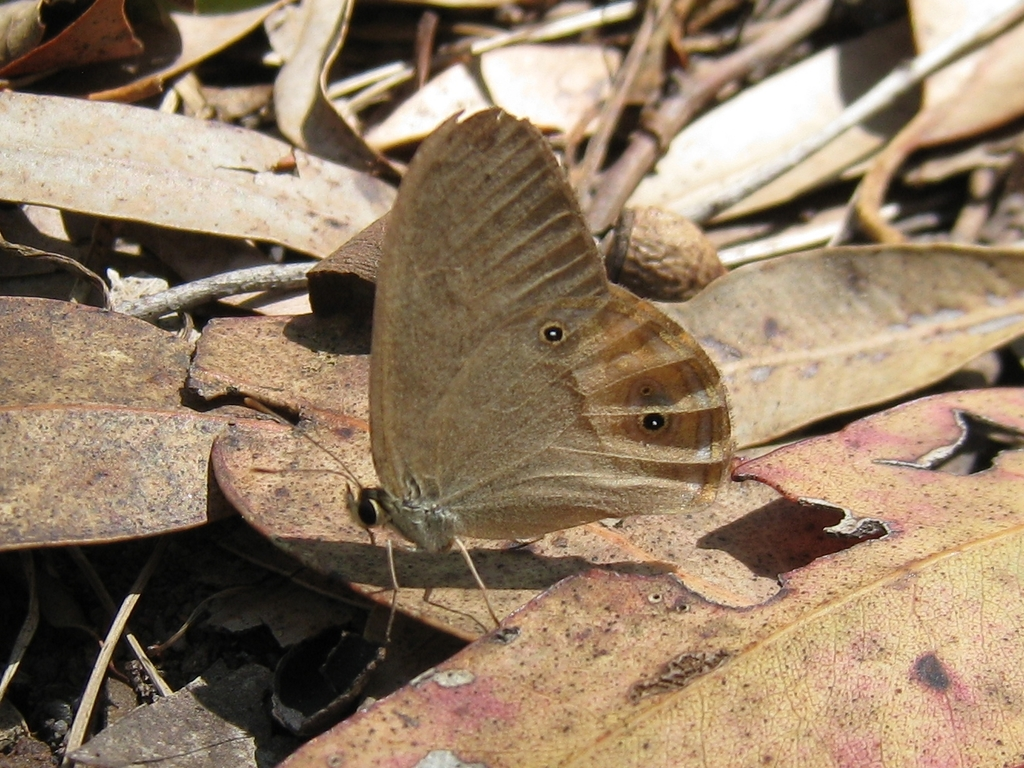Butterfly: (315, 82, 758, 599)
